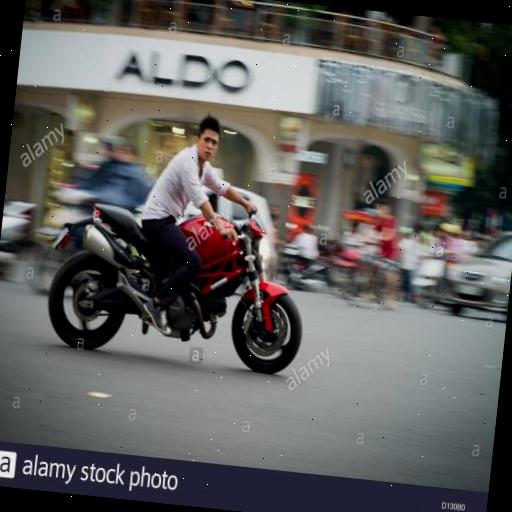no helmet: (42, 87, 326, 378)
